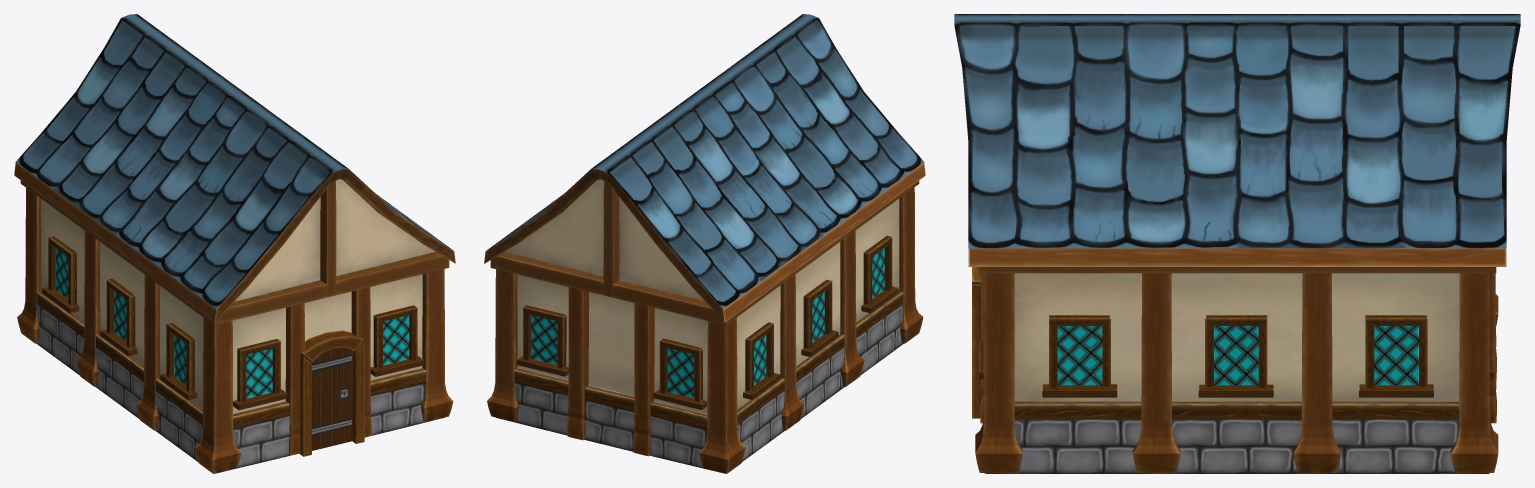
The model's file is house01.fbx.
The picture shows the model from 3 angles, left to right: view 1: azimuth 30°, elevation 25°; view 2: azimuth 150°, elevation 25°; view 3: azimuth 270°, elevation 25°; orthographic projection. The views are drawn at different scales.
Visible parts, largest first — view 1: NPC House 01; view 2: NPC House 01; view 3: NPC House 01.
Part boxes in pixels (x1,y1,x2,y2): NPC House 01: (14,14,455,473); NPC House 01: (484,14,925,473); NPC House 01: (954,14,1520,473).
Bounding box in the file's own units: 4.26 × 4.82 × 6.49.
Materials: 1 (1 with a texture image).
